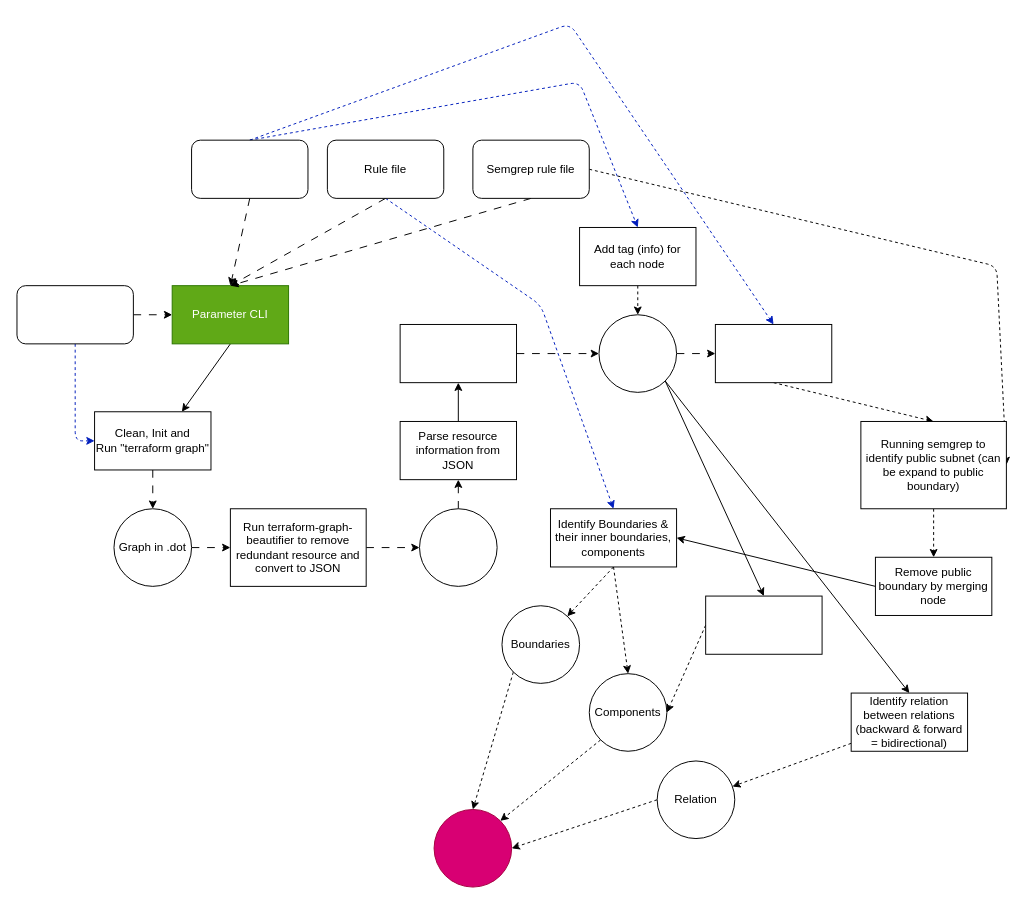
Some shapes in this 1031 by 904 pixel diagram are drawn without their labels. The box of each missing label's shape, as (x1, y1, x2, y2) in pixels:
Add connections to graph database (memgraph): (399, 323, 517, 383)
Add remaining components to General boundary: (705, 595, 822, 654)
Annotation file: (191, 139, 308, 198)
Compress node based on compress annotation: (714, 323, 832, 383)
DFD: (433, 808, 512, 887)
Directed Graph: (598, 314, 677, 392)
Graph in JSON: (419, 508, 497, 586)
Terraform's project folder path: (16, 285, 133, 344)
